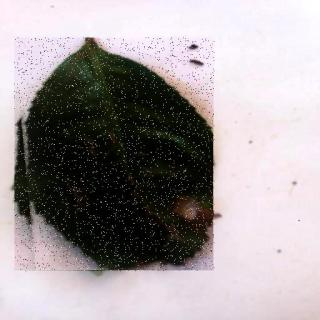Brown Blight: (16, 39, 216, 273)
